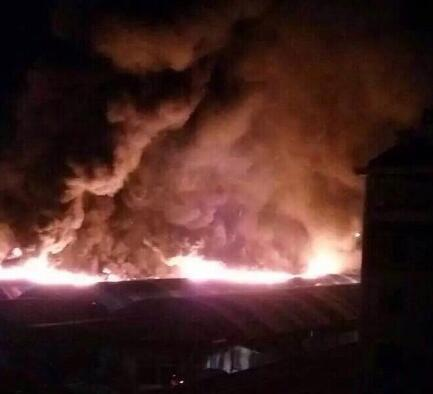fire: (1, 246, 344, 290)
